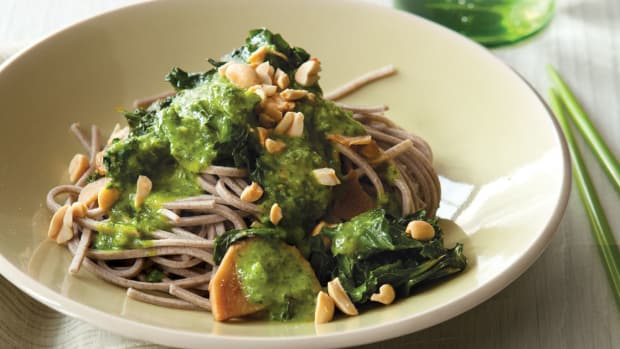Soba: (39, 55, 451, 316)
